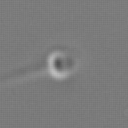normal: (1, 61, 48, 94)
